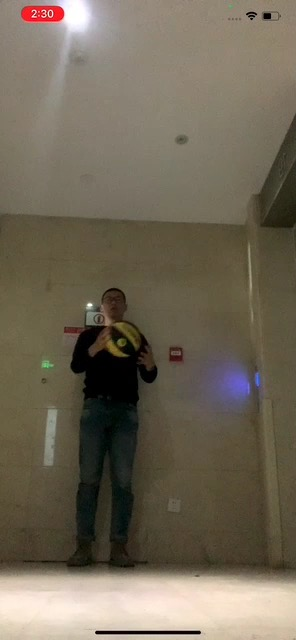ball: (104, 319, 143, 358)
